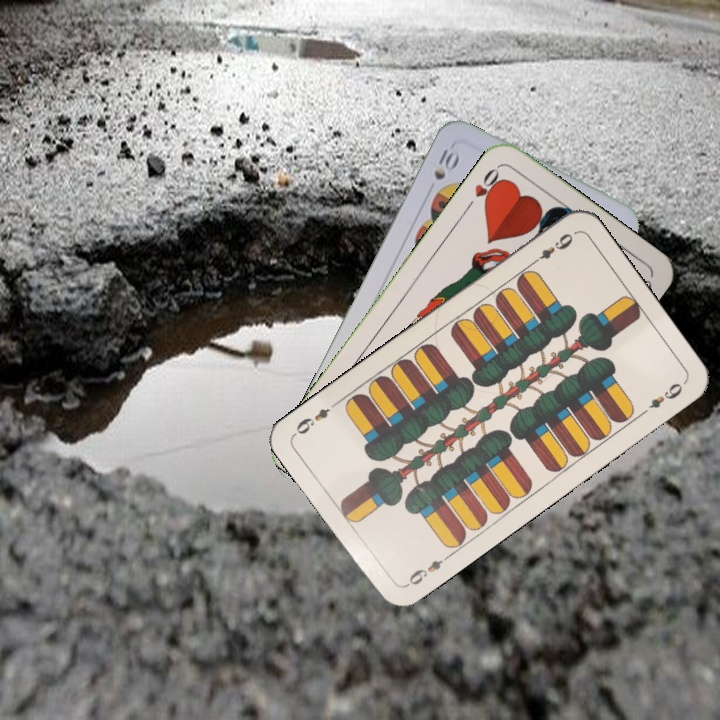E9: (401, 550, 453, 590), (526, 229, 576, 268)
HO: (461, 162, 506, 213)
S10: (429, 145, 462, 183)
